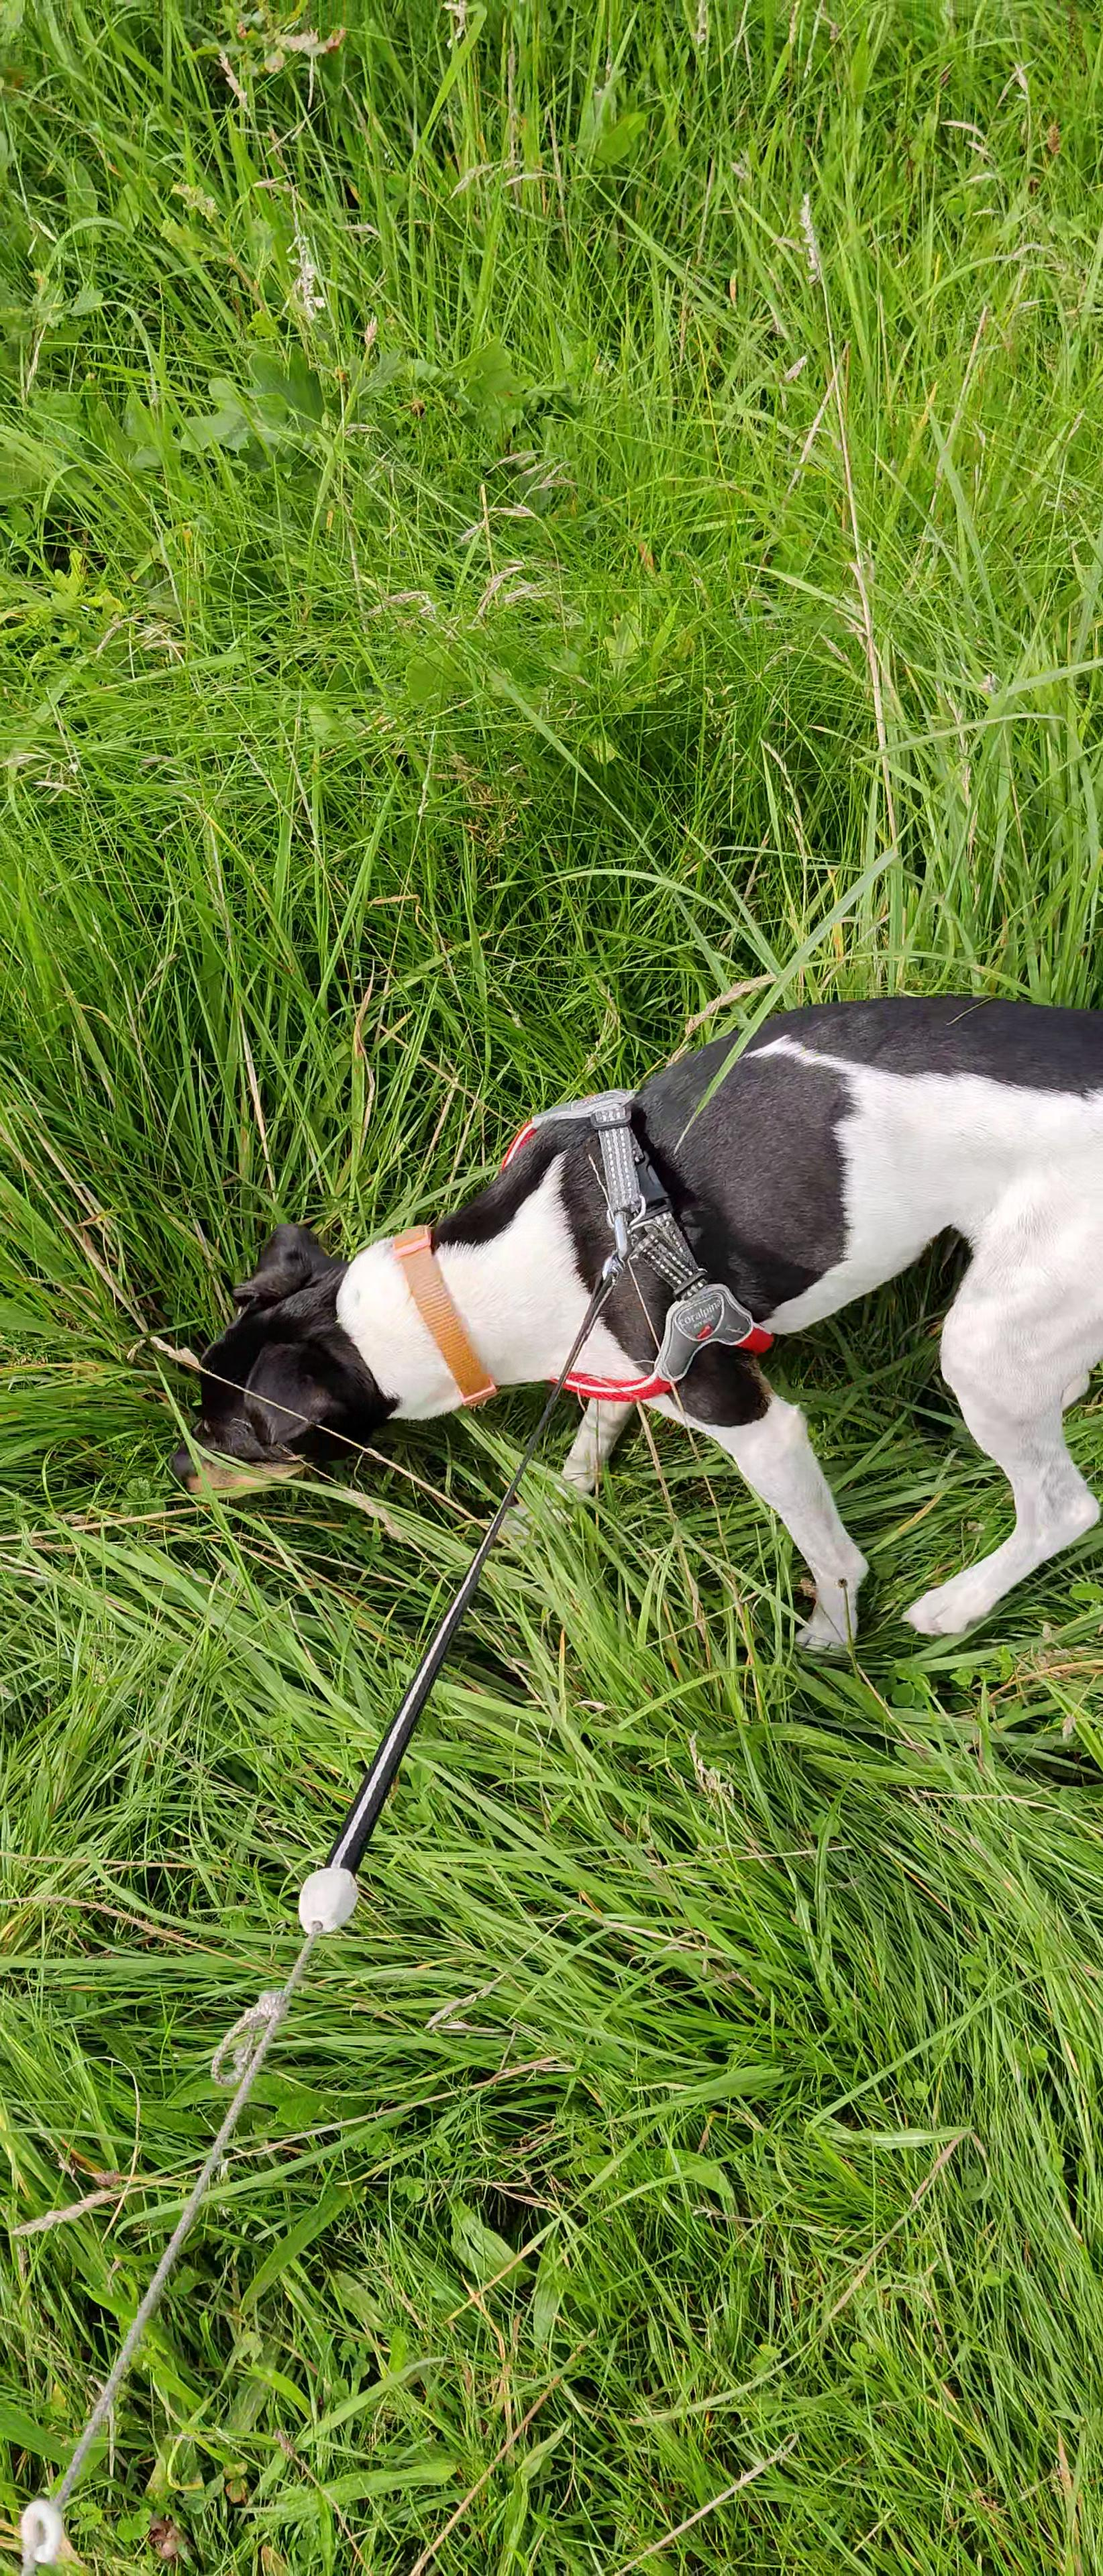Dog: (150, 969, 1103, 1671)
